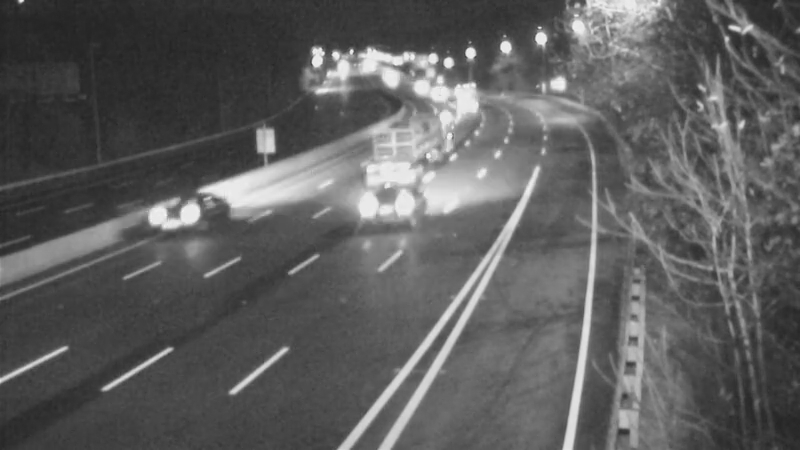vehicle: (355, 122, 435, 202), (346, 168, 426, 248), (146, 175, 226, 255), (394, 59, 444, 109), (415, 65, 465, 115), (442, 72, 492, 122), (417, 92, 467, 142)
